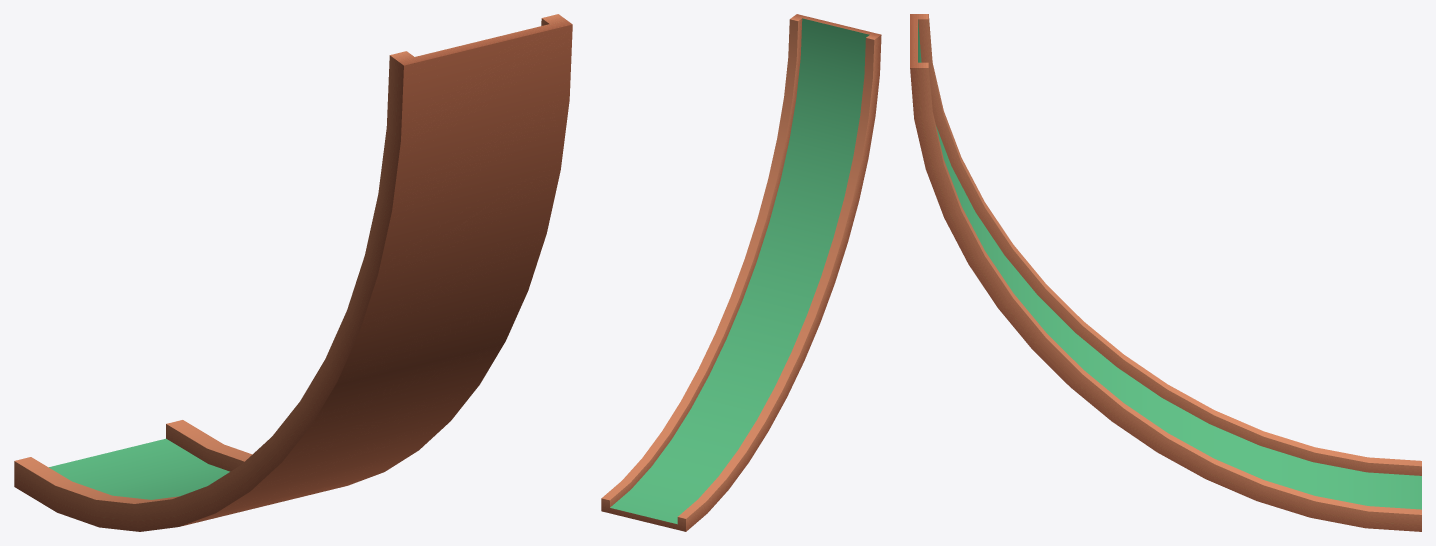
File: spline-default-straight-bend-large.glb
3 views of the same model, side by side, from view 1: azimuth 30°, elevation 25°; view 2: azimuth 150°, elevation 25°; view 3: azimuth 270°, elevation 25° (orthographic). The views are drawn at different scales.
Visible parts, largest first — view 1: spline-default-straight-bend-large; view 2: spline-default-straight-bend-large; view 3: spline-default-straight-bend-large.
Part boxes in pixels (x1,y1,x2,y2): spline-default-straight-bend-large: (14,14,572,531); spline-default-straight-bend-large: (601,14,881,531); spline-default-straight-bend-large: (910,14,1421,531).
Bounding box in the file's own units: 0.9999 × 4 × 4.
Materials: 1 (1 with a texture image).
